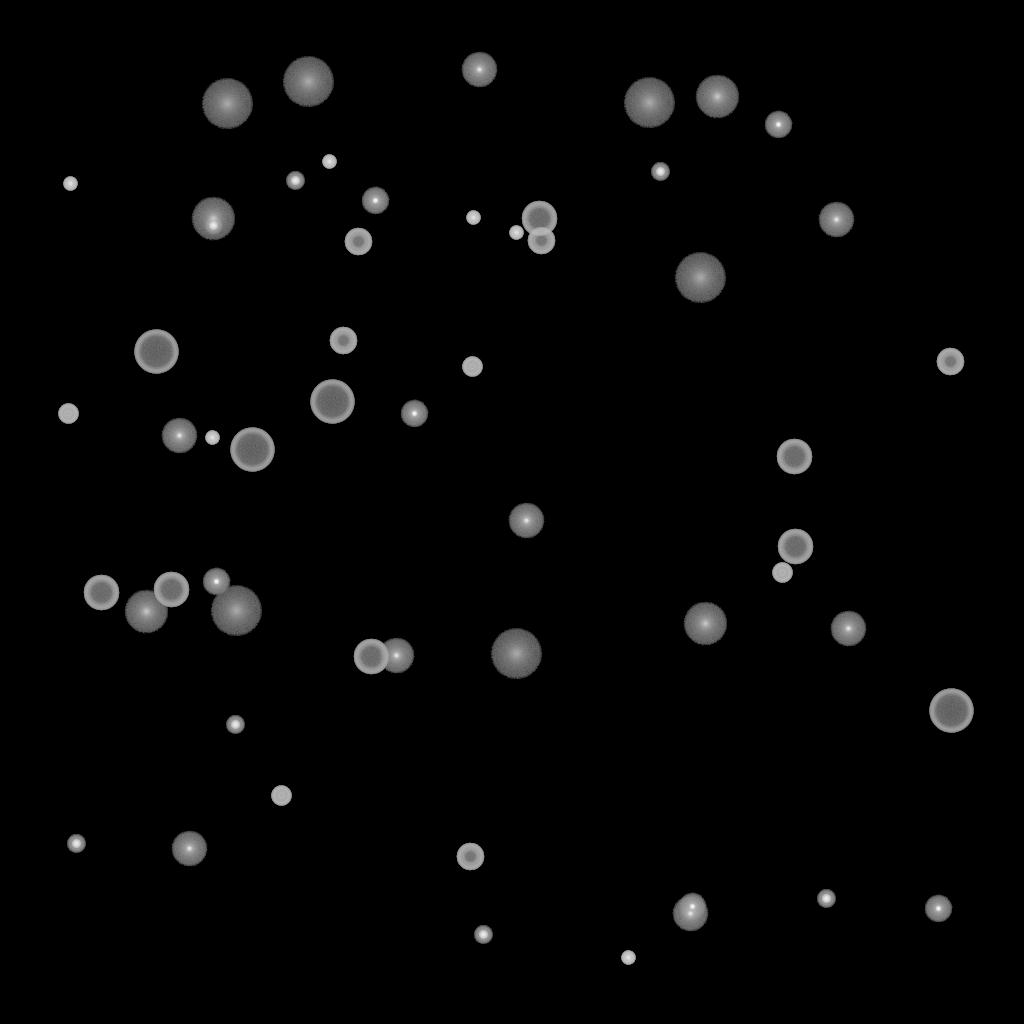depth:-10: (924, 895, 952, 923), (678, 893, 706, 921), (202, 568, 230, 596), (764, 111, 792, 139), (400, 400, 428, 428), (361, 187, 389, 215)
depth:-20: (226, 716, 244, 734), (651, 163, 669, 181), (817, 890, 835, 908), (286, 172, 304, 190), (474, 926, 492, 944), (67, 835, 85, 853), (204, 217, 222, 235)
depth:-30: (63, 177, 77, 191), (621, 951, 635, 965), (322, 155, 336, 169), (509, 226, 523, 240), (466, 211, 480, 225), (205, 431, 219, 445)
depth:-40: (271, 786, 291, 806), (772, 563, 792, 583), (462, 357, 482, 377), (58, 404, 78, 424)
depth:-50: (527, 227, 555, 255), (344, 228, 372, 256), (456, 843, 484, 871), (936, 348, 964, 376), (329, 327, 357, 355)
depth:-60: (521, 201, 557, 237), (776, 439, 812, 475), (153, 572, 189, 608), (353, 639, 389, 675), (777, 529, 813, 565), (83, 575, 119, 611)
depth:-70: (310, 380, 354, 424), (230, 428, 274, 472), (929, 689, 973, 733), (134, 330, 178, 374)
depth:0: (378, 638, 414, 674), (161, 418, 197, 454), (830, 611, 866, 647), (461, 52, 497, 88), (818, 202, 854, 238), (171, 831, 207, 867), (508, 503, 544, 539), (672, 896, 708, 932)
depth:10: (683, 602, 727, 646), (695, 75, 739, 119), (124, 590, 168, 634), (191, 197, 235, 241)
depth:20: (201, 79, 253, 129), (210, 586, 262, 636), (282, 57, 334, 107), (490, 629, 542, 679), (623, 78, 675, 128), (674, 253, 726, 303)
